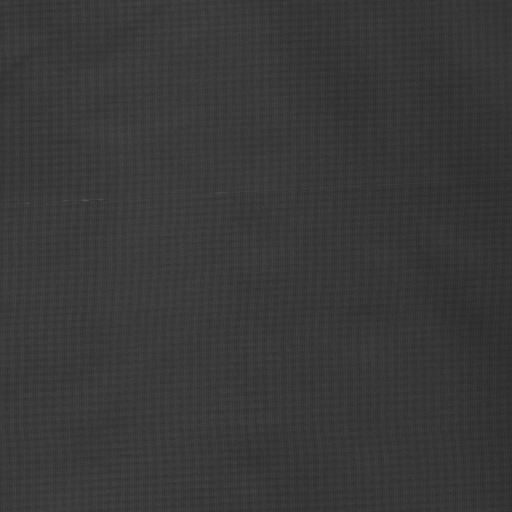defect: (1, 174, 512, 208)
